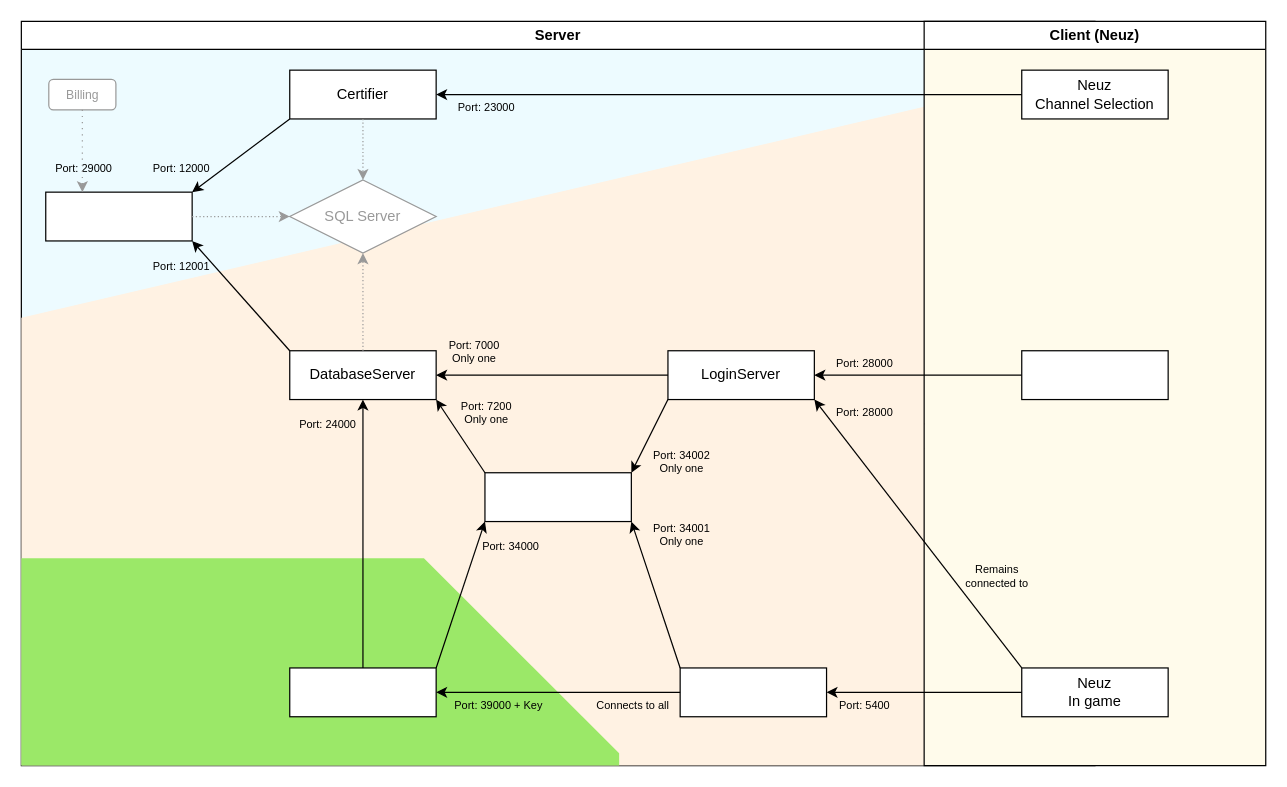
The diagram is 1287 pixels wide and 787 high, and some of its shapes have lost their labels. The shapes that lost their labels are listed below. From the top down, each one's centre as x and y in pixels, then its label:
the point at 118,216: AccountServer
the point at 1094,375: Neuz Character Selection
the point at 557,497: CoreServer
the point at 362,692: WorldServer
the point at 753,692: CacheServer
